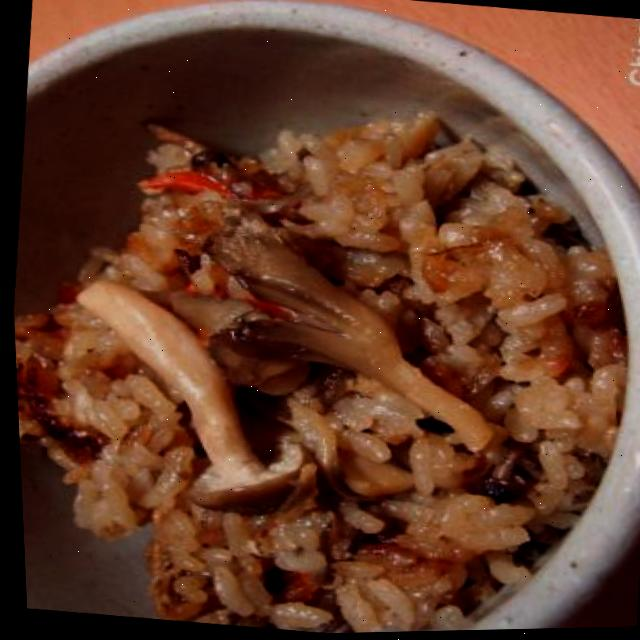米饭主食: (3, 75, 621, 640)
